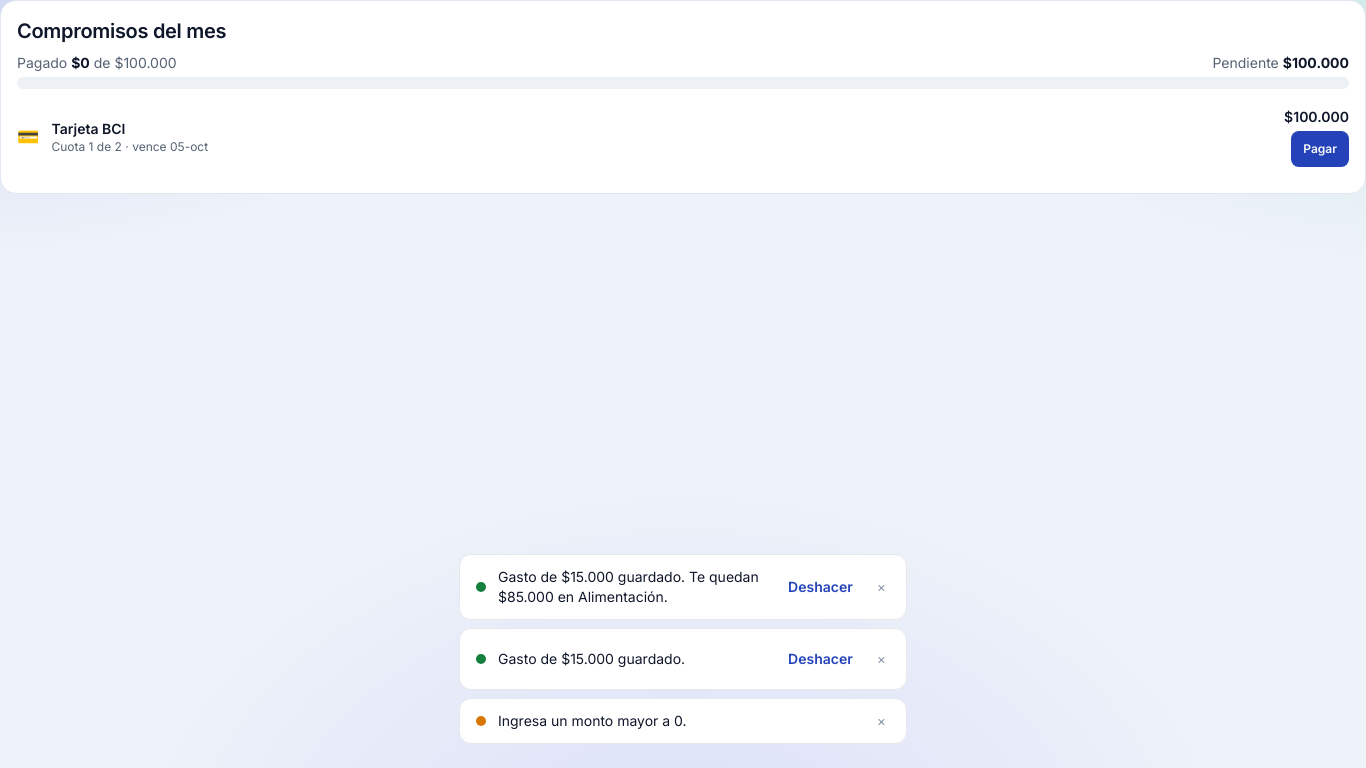
CommitmentsPanel › paga una cuota con un movimiento vinculado a la deuda
Later steps or results of the test are not shown.
Expected: the text "Cuota 1 de 2" is shown, [52, 139, 122, 154]
What coordinates should you click on to do the following:
click the button "Pagar"
I would click on:
 (1320, 149)
Its box is [1291, 131, 1349, 167].
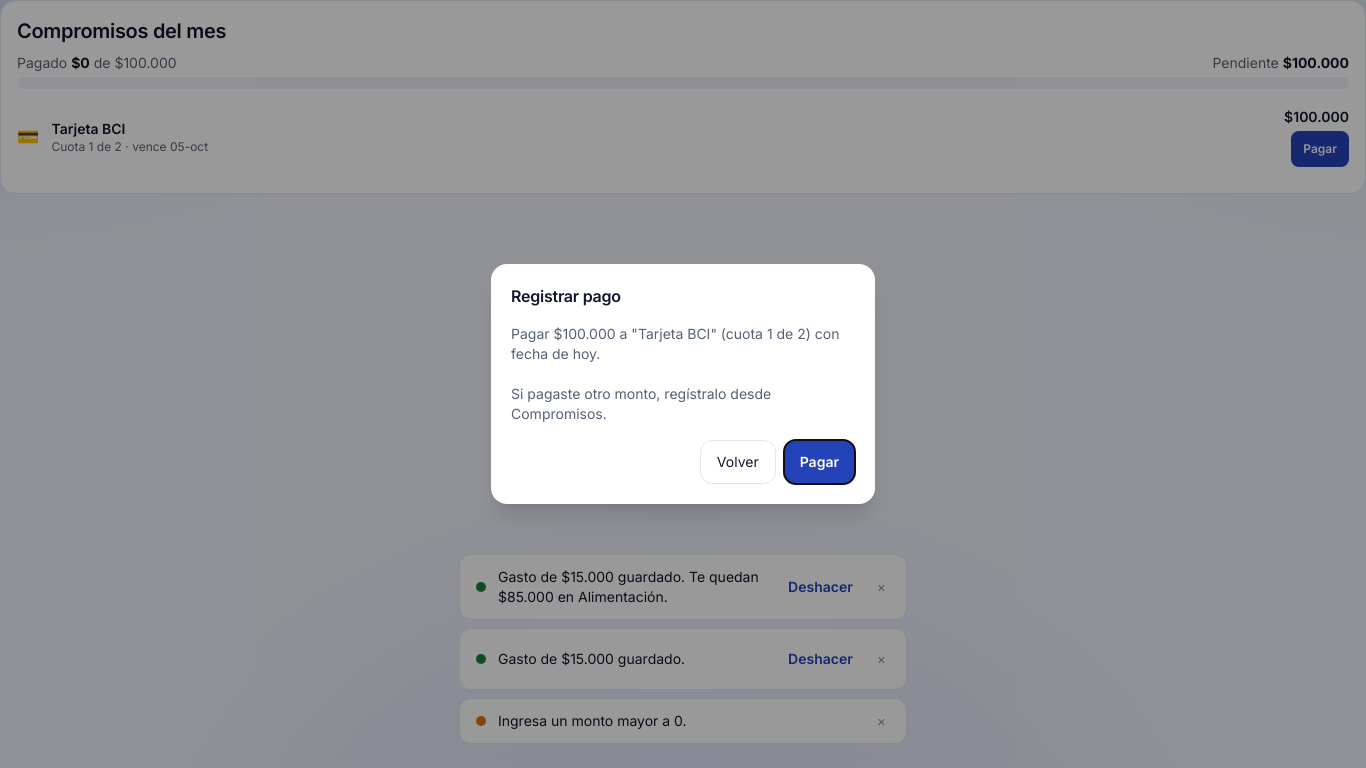
Result: the dialog shows "$100.000" at [511, 325, 840, 422]
